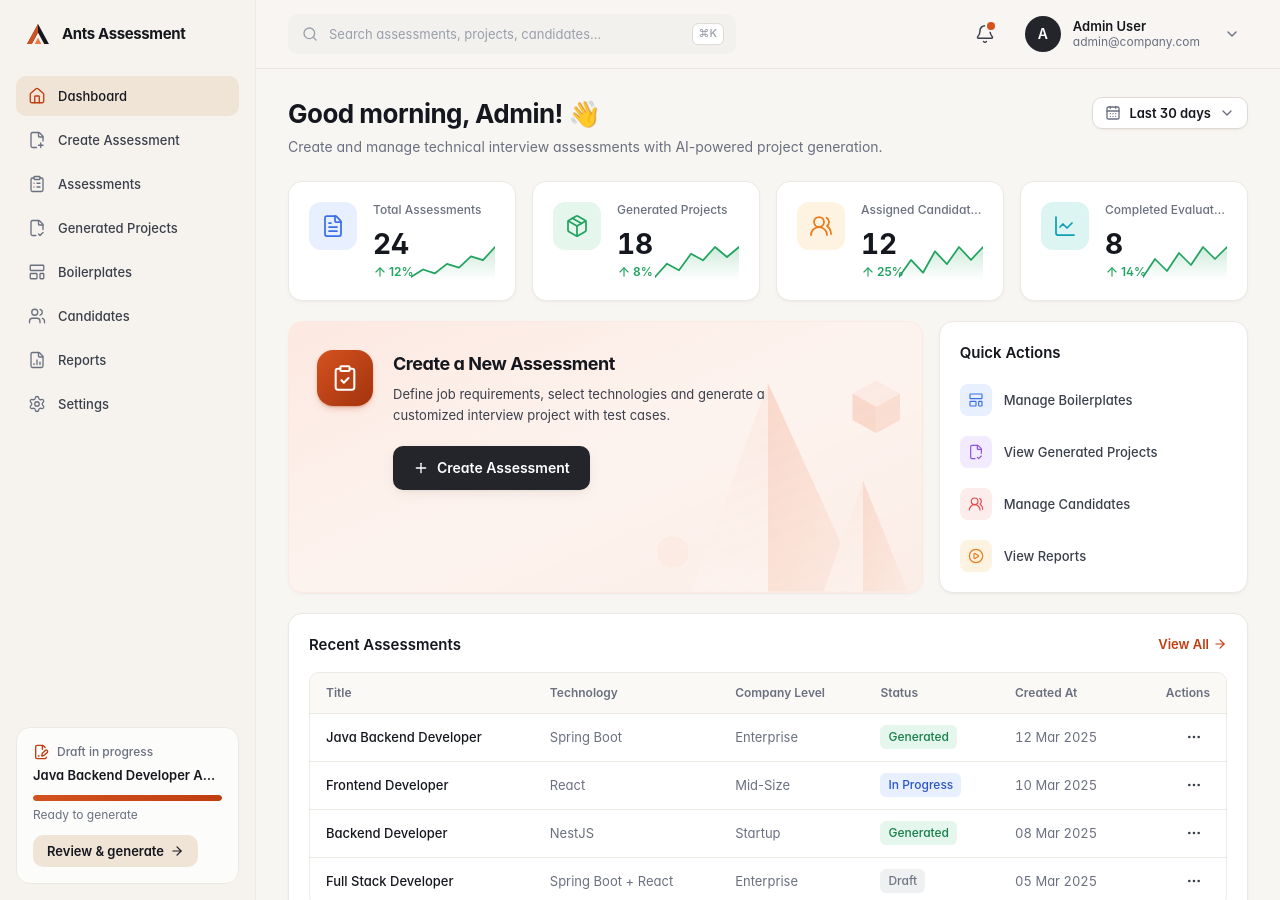
it: DashboardPage › duplicates and deletes assessments from the row menu
Click the button named "Actions for Backend Developer" at x=1194, y=833, box 1178,817 -> 1210,849
(page scrolled)
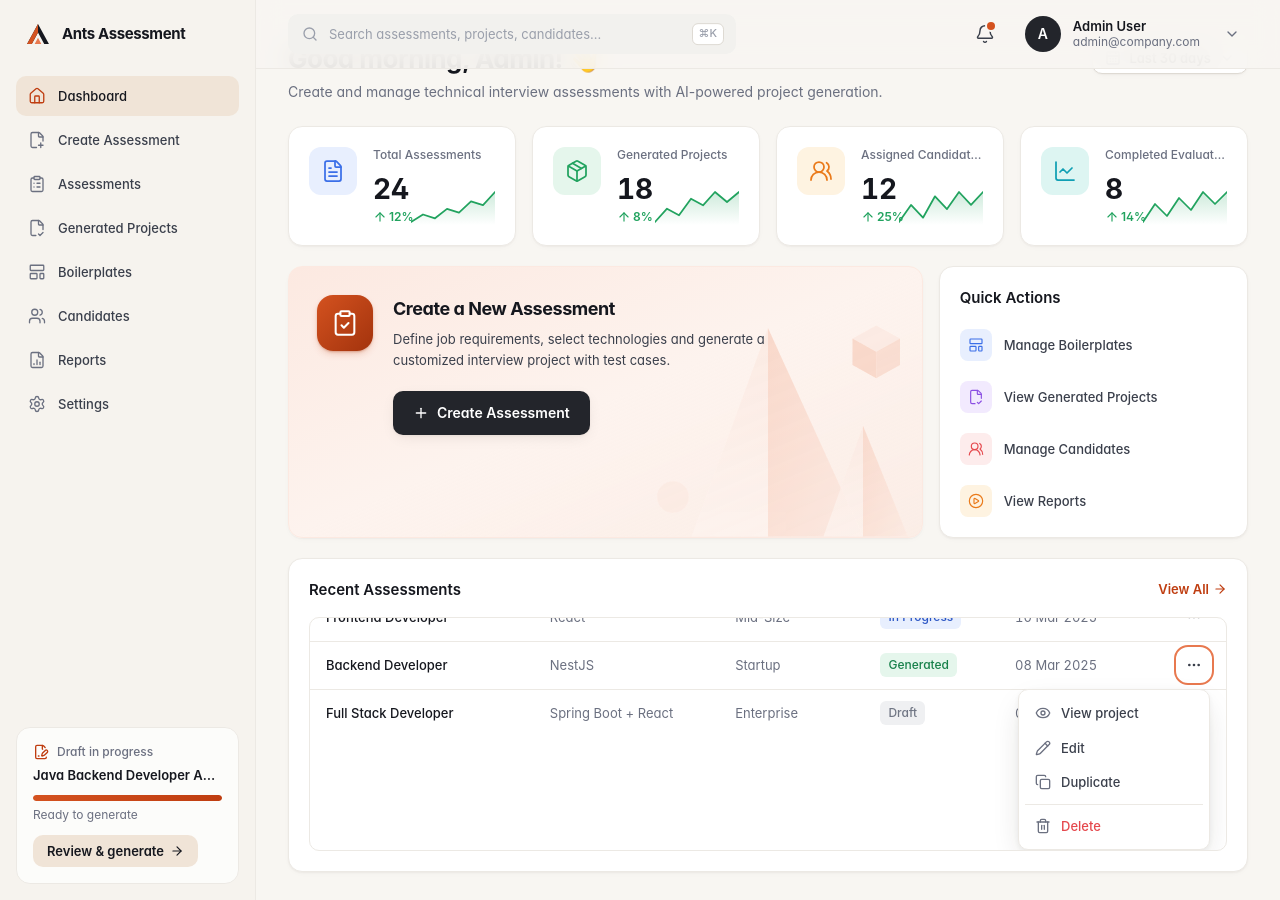
Click the menu item "Duplicate" at x=1114, y=782, box 1025,765 -> 1203,800
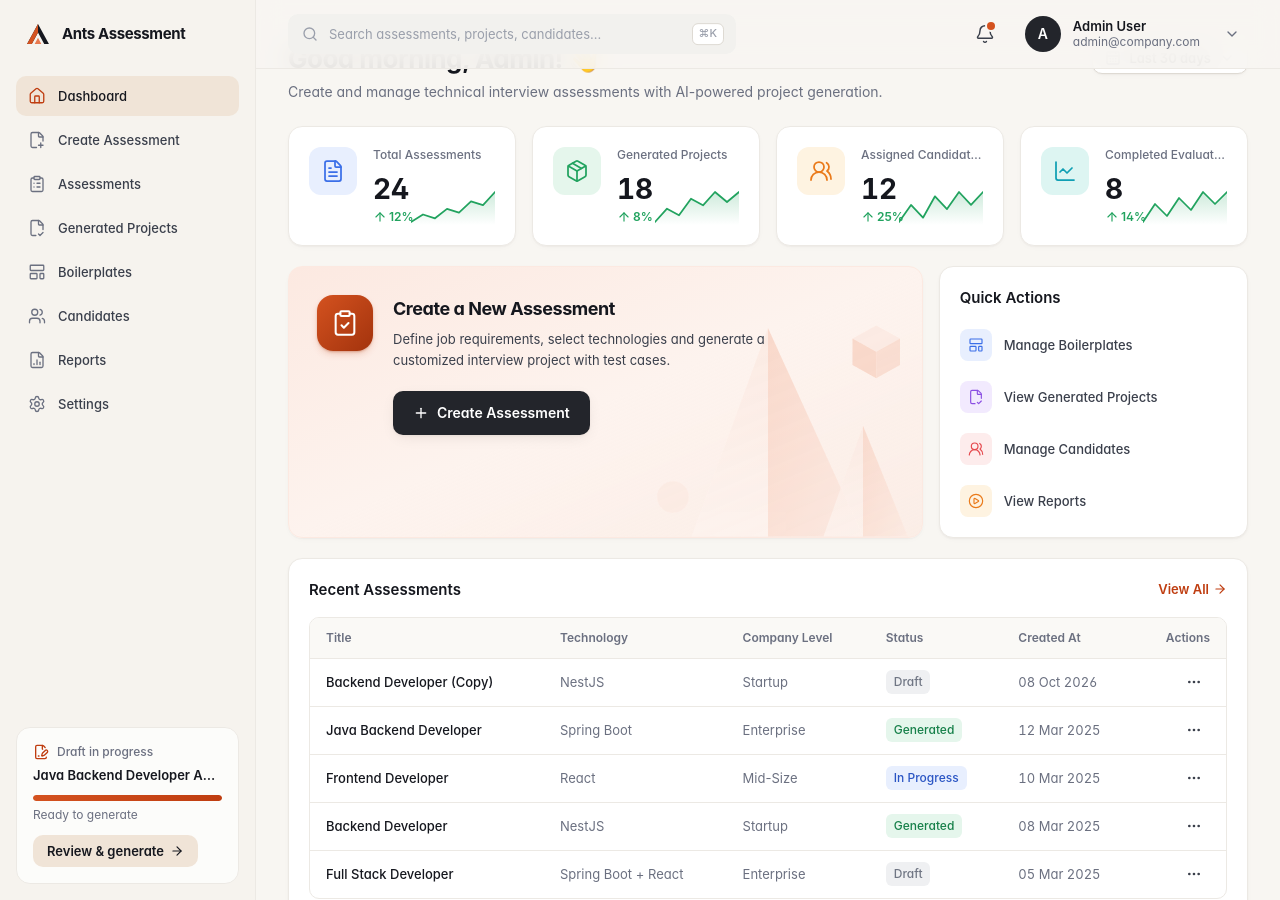
Now the row "Backend Developer (Copy) NestJS Startup Draft 08 Oct 2026" is shown, box 310,658 -> 1226,706
Click the button named "Actions for Frontend Developer" at x=1194, y=778, box 1178,762 -> 1210,794
(page scrolled)
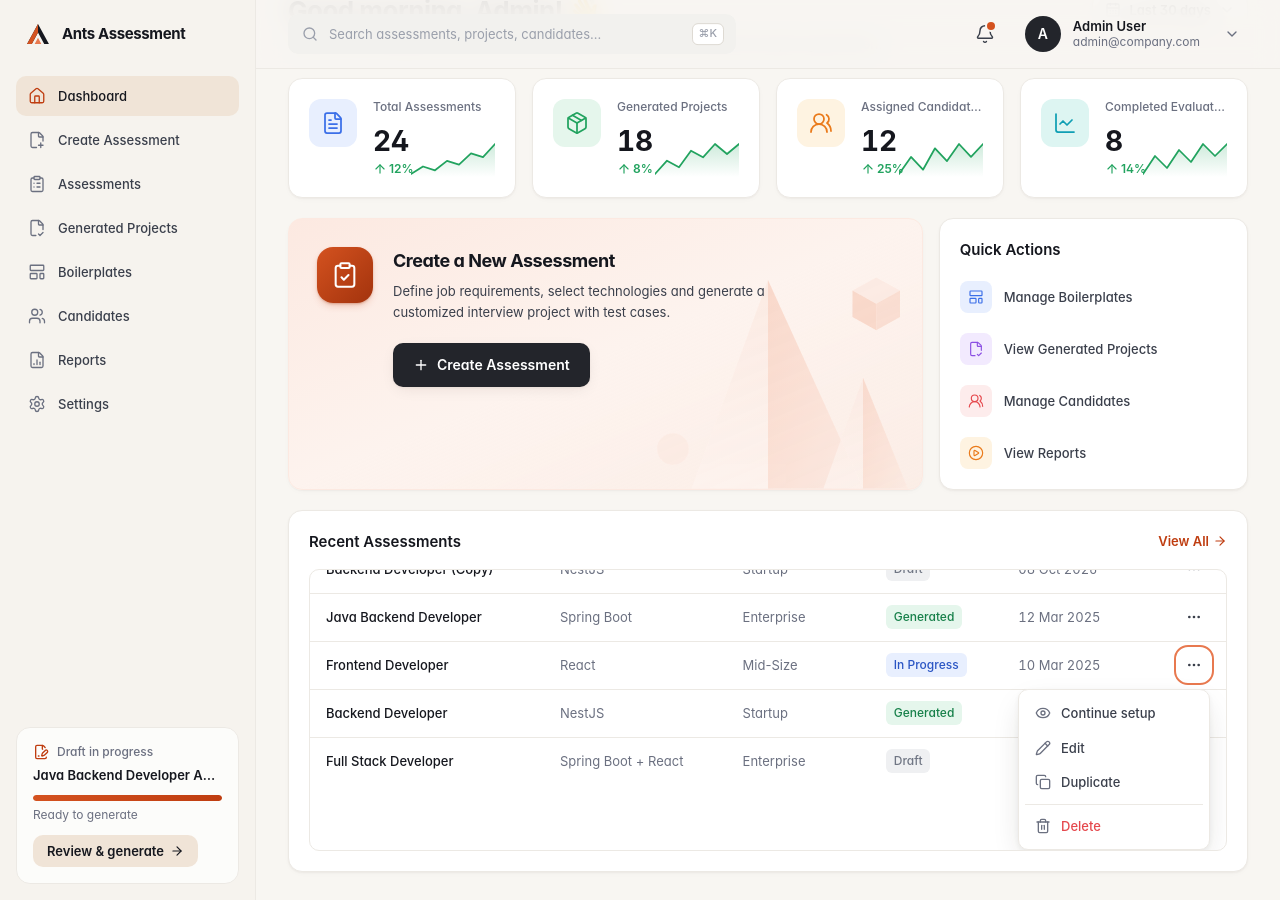
Click the menu item "Delete" at x=1114, y=826, box 1025,809 -> 1203,843
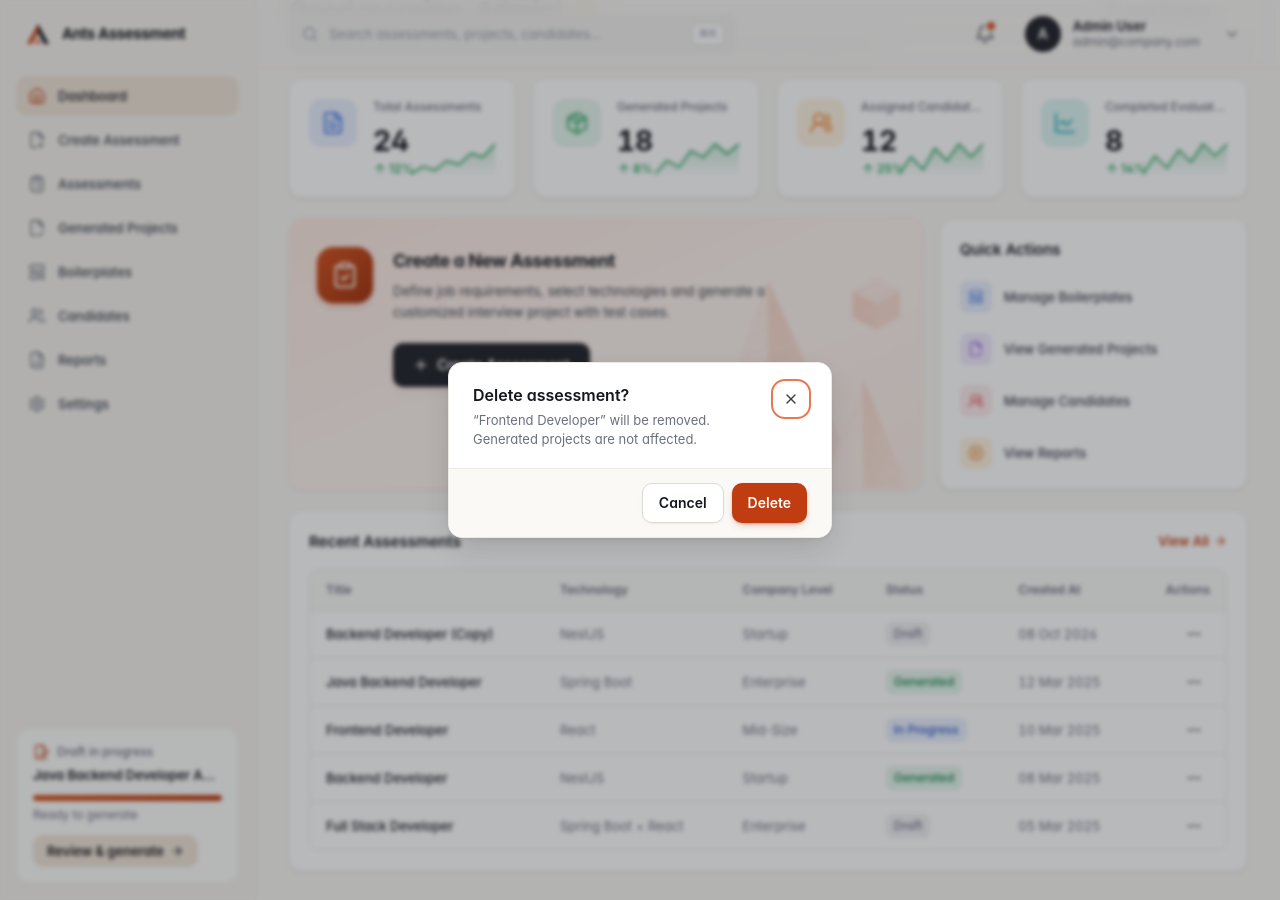
Click the button "Delete" at x=769, y=503, box 732,483 -> 807,523
(page scrolled)
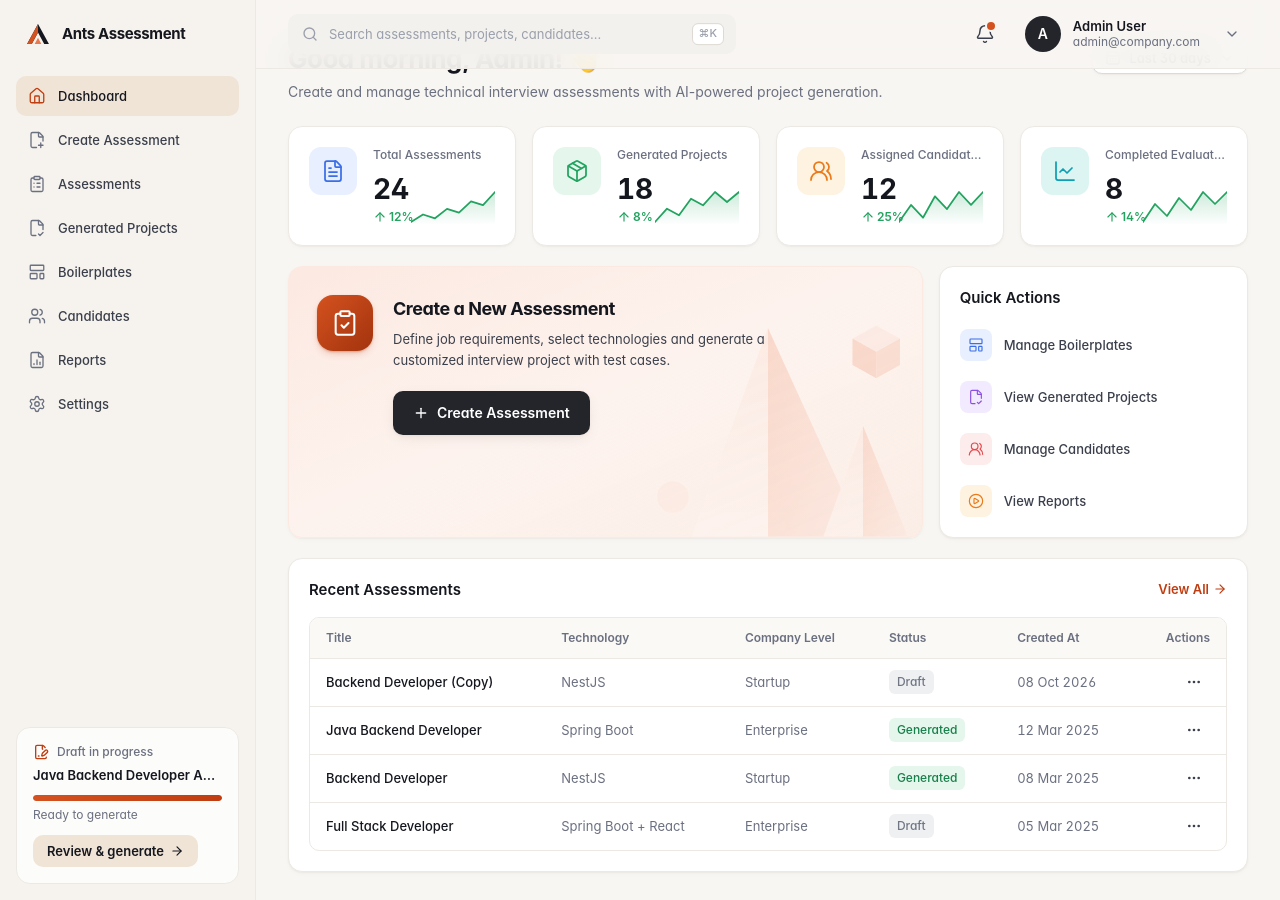
Now the link "Frontend Developer" is gone
